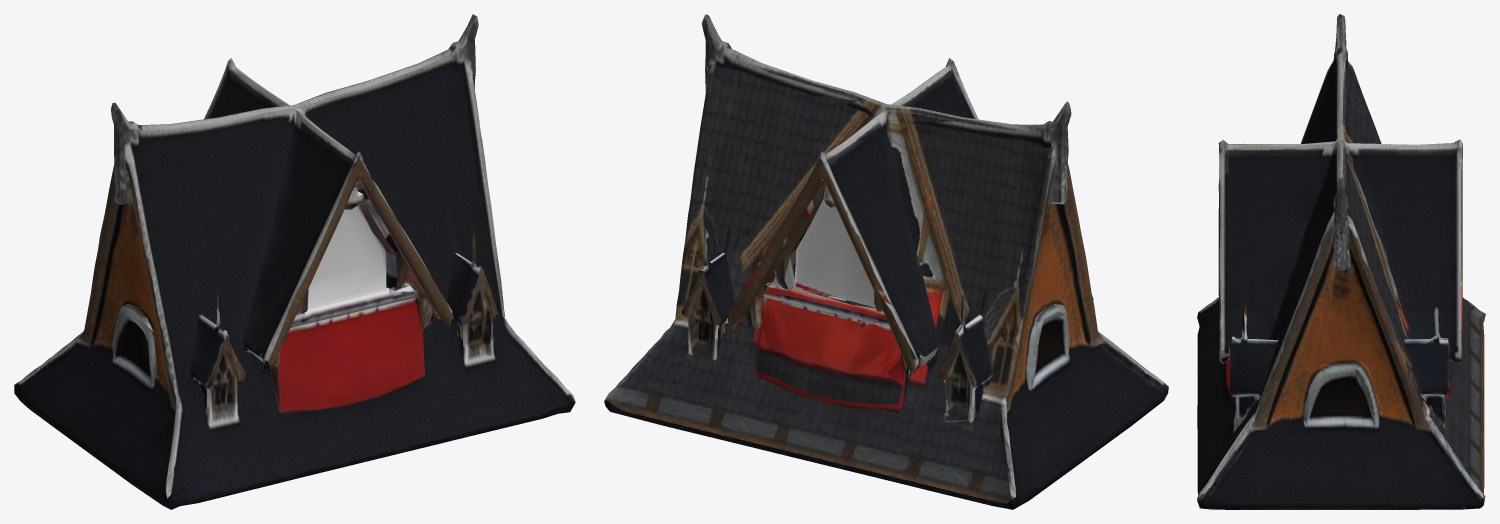
Rendered from ayutthaya_guardia_extranjera.glb.
The picture shows the model from 3 angles, left to right: view 1: azimuth 30°, elevation 25°; view 2: azimuth 150°, elevation 25°; view 3: azimuth 270°, elevation 25°; orthographic projection. The views are drawn at different scales.
Visible parts, largest first — view 1: geometry_0; view 2: geometry_0; view 3: geometry_0.
Boxes of the visible parts, x1,y1,x2,y2 form: geometry_0: [14, 14, 575, 509]; geometry_0: [604, 14, 1168, 509]; geometry_0: [1197, 14, 1485, 509].
Bounding box in the file's own units: 3.4 × 2.81 × 2.24.
Materials: 1 (1 with a texture image).
